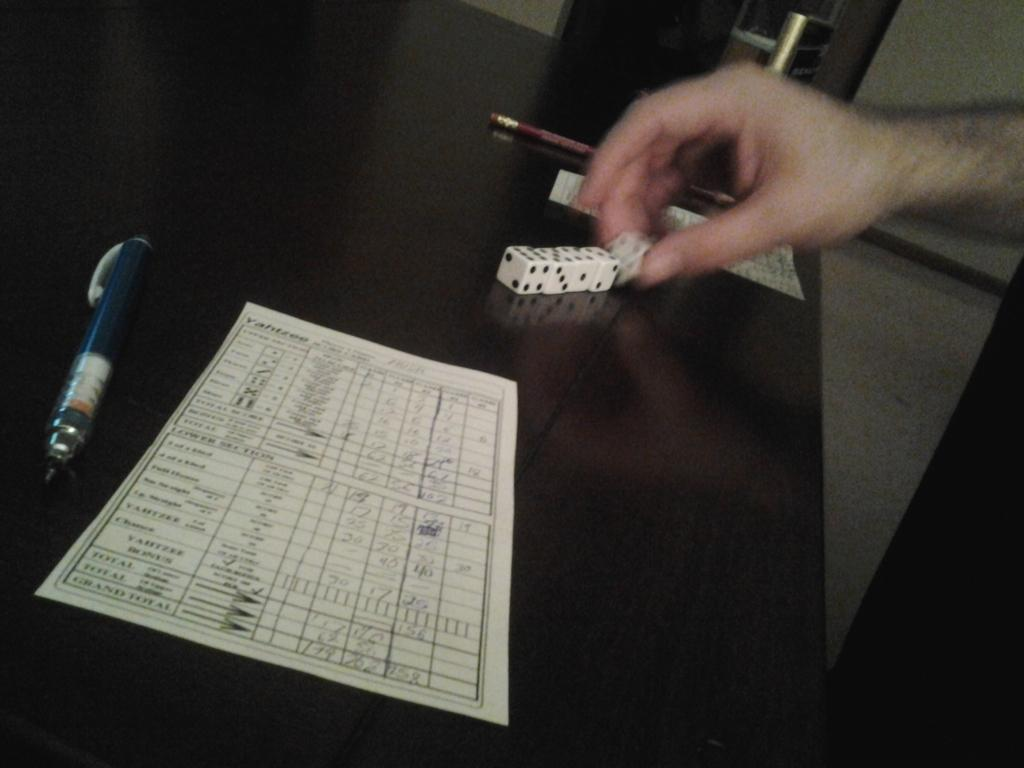Book: (32, 299, 518, 727)
